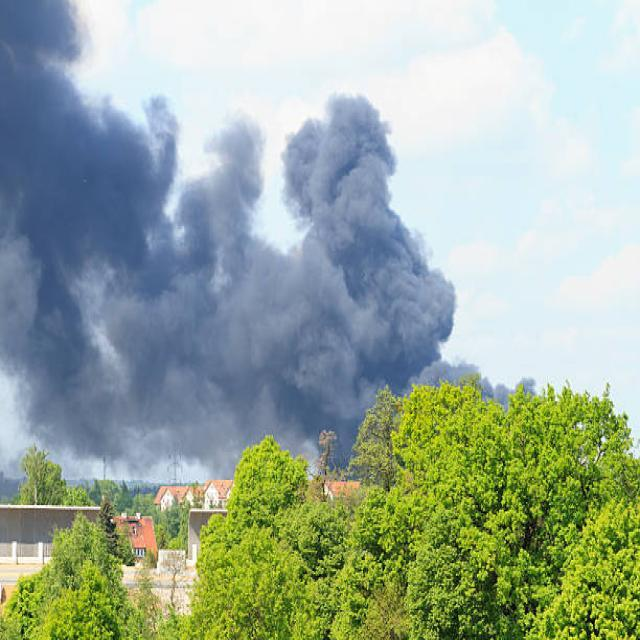Smoke: (0, 0, 188, 442), (302, 132, 471, 360), (187, 193, 317, 440)
